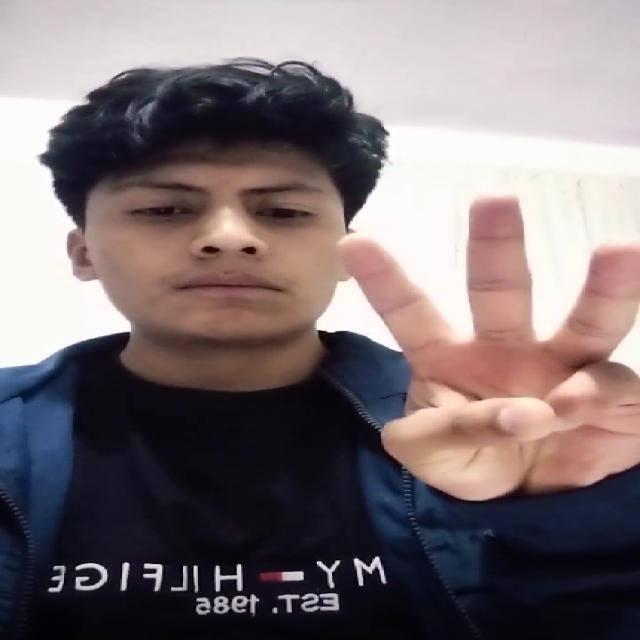W: (321, 192, 640, 496)
